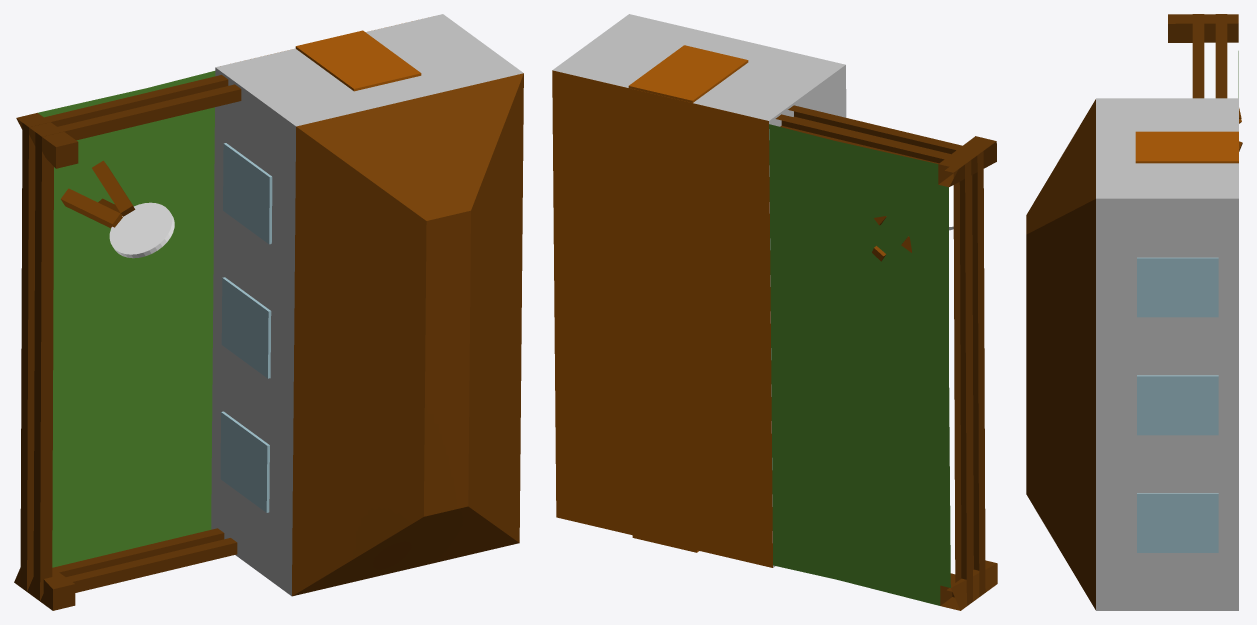
File: Казарма3Origin.fbx
The picture shows the model from 3 angles, left to right: view 1: azimuth 30°, elevation 25°; view 2: azimuth 150°, elevation 25°; view 3: azimuth 270°, elevation 25°; orthographic projection. The views are drawn at different scales.
Visible parts, largest first — view 1: Казарма3; view 2: Казарма3; view 3: Казарма3.
Boxes of the visible parts, x1,y1,x2,y2 form: Казарма3: [14, 14, 523, 610]; Казарма3: [552, 14, 997, 610]; Казарма3: [1026, 14, 1242, 610].
Bounding box in the file's own units: 1.8 × 1.9 × 0.8879.
